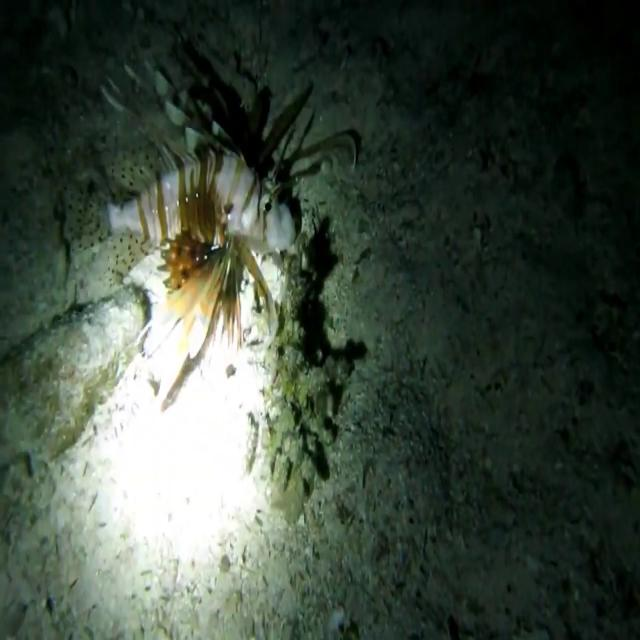Aslan Baligi: (97, 36, 360, 374)
